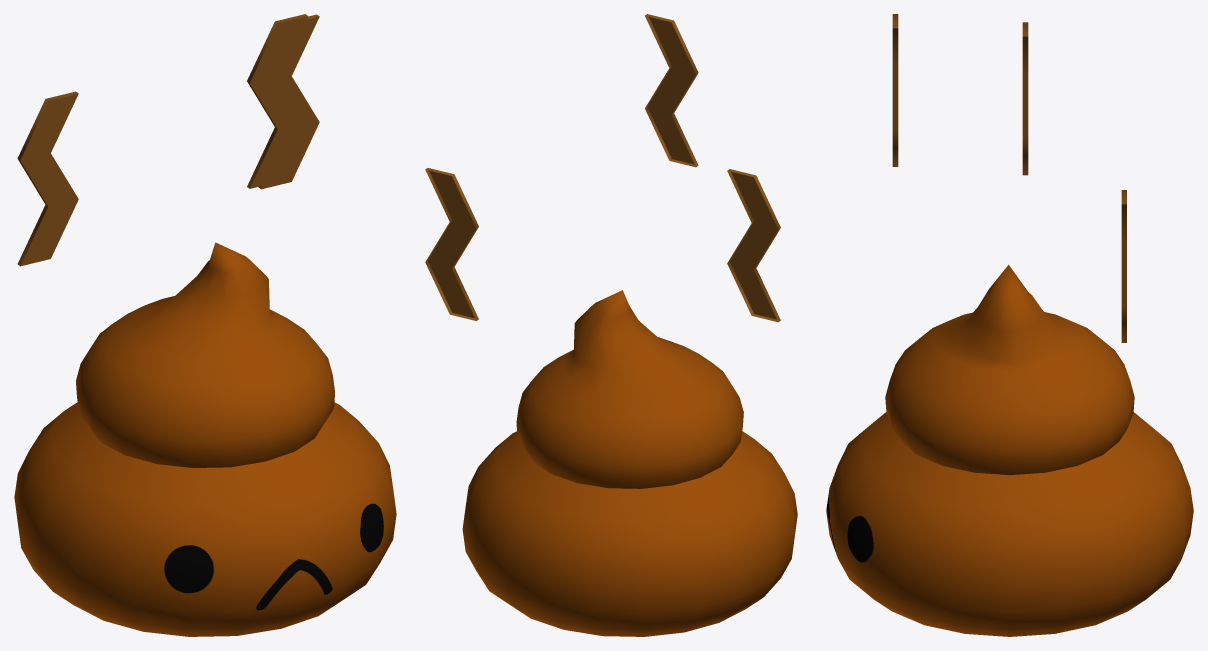
File: poo.fbx
3 renders of one model, left to right at view 1: azimuth 30°, elevation 25°; view 2: azimuth 150°, elevation 25°; view 3: azimuth 270°, elevation 25°, orthographic. The views are drawn at different scales.
Visible parts, largest first — view 1: poo_body, smell_line, smell_line_1, smell_line_2; view 2: poo_body, smell_line_2, smell_line, smell_line_1; view 3: poo_body, smell_line, smell_line_1, smell_line_2.
Boxes of the visible parts, left/top/right/bottom form: poo_body: left=14, top=242, right=396, bottom=636; smell_line: left=17, top=91, right=78, bottom=266; smell_line_1: left=247, top=14, right=307, bottom=188; smell_line_2: left=258, top=14, right=319, bottom=189; poo_body: left=462, top=290, right=797, bottom=636; smell_line_2: left=425, top=168, right=478, bottom=320; smell_line: left=727, top=169, right=780, bottom=322; smell_line_1: left=645, top=14, right=698, bottom=167; poo_body: left=826, top=264, right=1193, bottom=636; smell_line: left=1022, top=22, right=1028, bottom=175; smell_line_1: left=892, top=14, right=898, bottom=166; smell_line_2: left=1121, top=190, right=1126, bottom=342.
Size of the model in its own units: 312 by 515 by 296.
2 materials, 2 textured.
